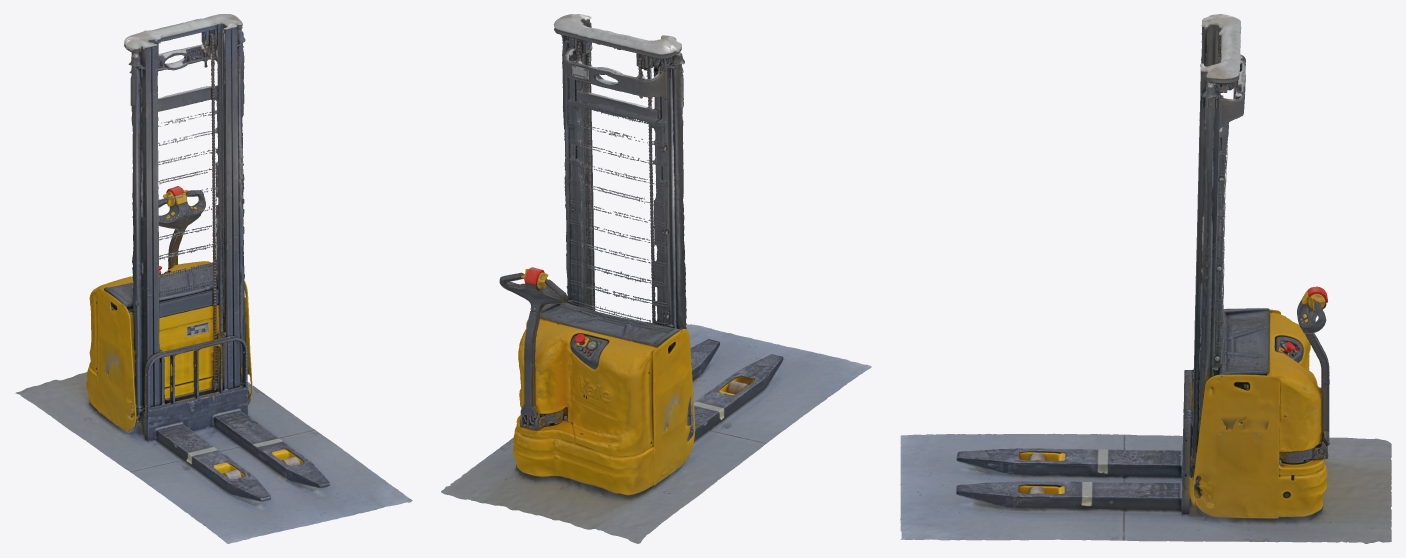
File: hubwagen.gltf
The picture shows the model from 3 angles, left to right: view 1: azimuth 30°, elevation 25°; view 2: azimuth 150°, elevation 25°; view 3: azimuth 270°, elevation 25°; orthographic projection. The views are drawn at different scales.
Parts seen in each view (by area): view 1: Object_2, Object_3, Object_4, Object_5; view 2: Object_2, Object_3, Object_4, Object_5; view 3: Object_2, Object_4, Object_3, Object_5.
Boxes of the visible parts, left/top/right/bottom form: Object_2: left=41, top=14, right=406, bottom=543; Object_3: left=39, top=14, right=327, bottom=541; Object_4: left=15, top=19, right=412, bottom=515; Object_5: left=82, top=32, right=329, bottom=508; Object_2: left=441, top=14, right=871, bottom=517; Object_3: left=517, top=17, right=864, bottom=529; Object_4: left=449, top=14, right=750, bottom=543; Object_5: left=506, top=35, right=797, bottom=522; Object_2: left=900, top=14, right=1391, bottom=543; Object_4: left=900, top=48, right=1391, bottom=542; Object_3: left=900, top=45, right=1391, bottom=497; Object_5: left=936, top=15, right=1391, bottom=541.
Bounding box in the file's own units: 13.3 × 27.66 × 26.69.
1 material, 1 textured.
